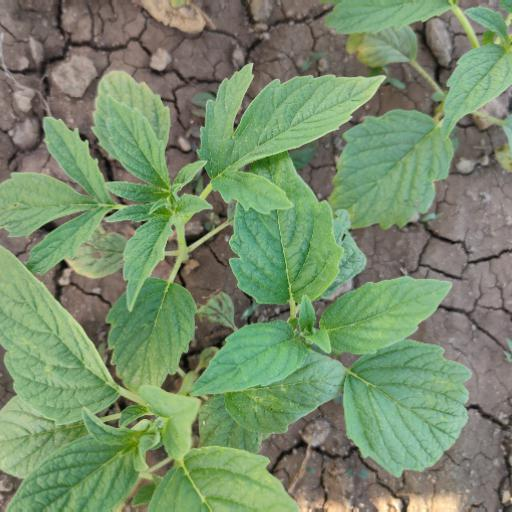crop: (1, 68, 511, 512)
